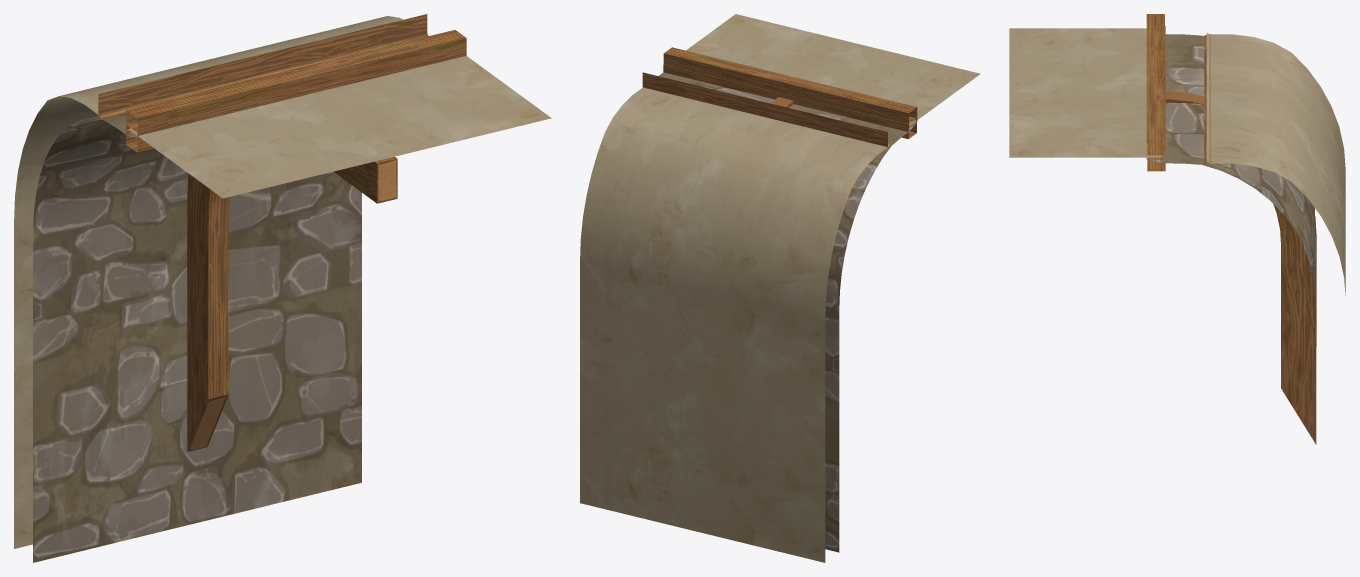
The model's file is Overhang_UnevenBrick_Long.gltf.
3 renders of one model, left to right at view 1: azimuth 30°, elevation 25°; view 2: azimuth 150°, elevation 25°; view 3: azimuth 270°, elevation 25°, orthographic. The views are drawn at different scales.
Parts seen in each view (by area): view 1: Overhang_UnevenBrick_Long; view 2: Overhang_UnevenBrick_Long; view 3: Overhang_UnevenBrick_Long.
Part boxes in pixels (bbox=[...]): Overhang_UnevenBrick_Long: bbox=[14, 14, 551, 562]; Overhang_UnevenBrick_Long: bbox=[580, 14, 980, 562]; Overhang_UnevenBrick_Long: bbox=[1009, 14, 1345, 444].
Bounding box in the file's own units: 2 × 3.03 × 2.2.
Materials: 3 (3 with a texture image).
